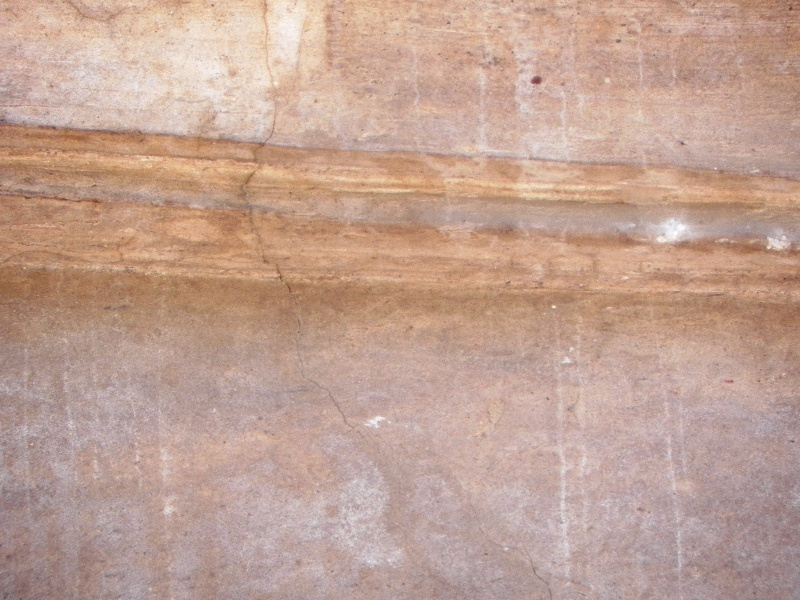Crack: (238, 74, 282, 258)
